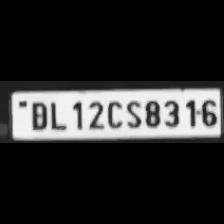1: (68, 98, 84, 130), (182, 96, 198, 128)
2: (84, 98, 104, 130)
3: (162, 96, 180, 128)
6: (198, 96, 218, 128)
8: (142, 97, 160, 128)
C: (104, 97, 122, 129)
D: (26, 99, 48, 130)
L: (47, 98, 67, 132)
S: (122, 97, 142, 129)
